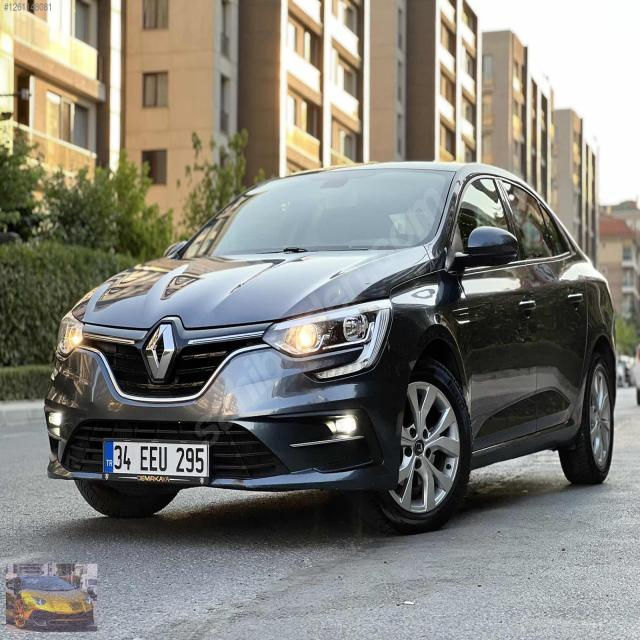renault: (144, 324, 176, 381)
